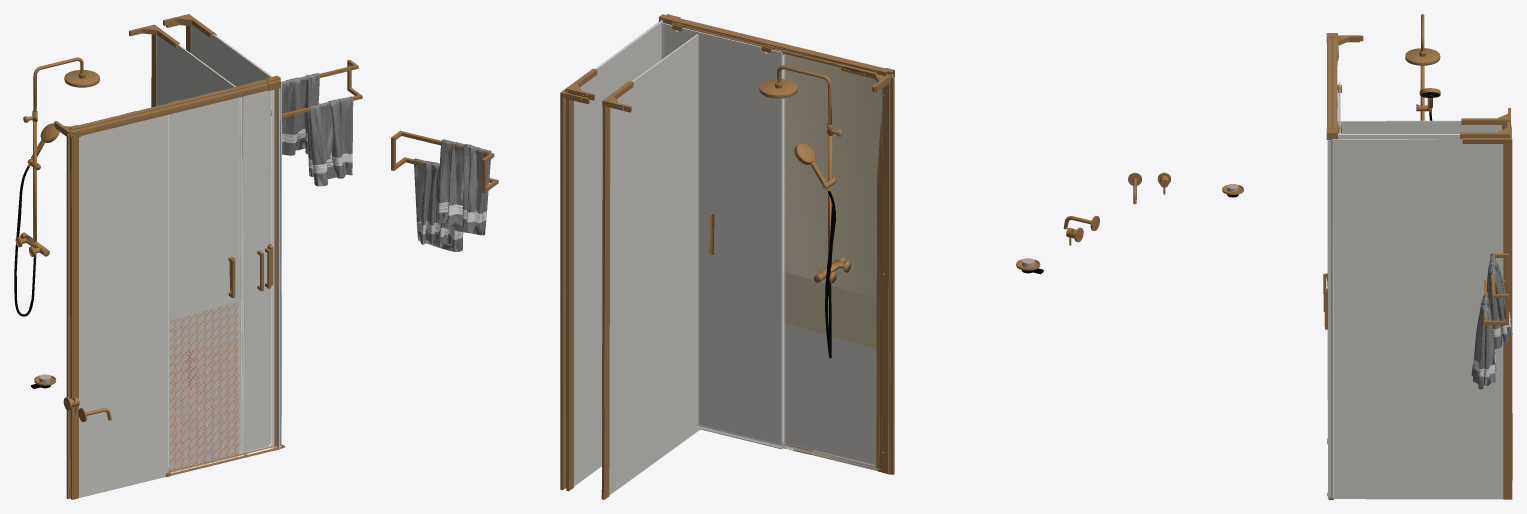
The model's file is PAROIS_compressed.glb.
3 views of the same model, side by side, from view 1: azimuth 30°, elevation 25°; view 2: azimuth 150°, elevation 25°; view 3: azimuth 270°, elevation 25° (orthographic). The views are drawn at different scales.
Visible parts, largest first — view 1: PLCLS 1200x2000 + PLTWU 900x2000, PLPIV 1000x2000 + PLTWU 900x2000.001, Moving door, PLWRU 1000X2000, PLPIV 1000x2000 + PLTWU 900x2000.002, Serigraphie Geometrie arondie, PLPIF 1200X2000, towel.002, Serigraphie Chevrons arondie, Shower system, towel.001, Door.002 (+5 smaller); view 2: PLPIV 1000x2000 + PLTWU 900x2000.002, MovingDoor, PLTWU 1000x2000, PLCLS 1200x2000 + PLTWU 900x2000, Moving door.001, Serigraphie Chevrons carrée, towel.001, Shower system, PLPIF 1200X2000 + PLTWU 900x2000, PLPIV 1000x2000.001, PLCLS 1200x2000, towel.002 (+2 smaller); view 3: PLPIF 1200X2000 + PLTWU 900x2000, PLCLS 1200x2000 + PLTWU 900x2000, PLPIV 1000x2000 + PLTWU 900x2000.002, towel.002, towel.001, Shower system, PLPIF 1200X2000, PLCLS 1200x2000, Towel rack.
Part boxes in pixels (x1=…): PLCLS 1200x2000 + PLTWU 900x2000: x1=69, y1=14, x2=280, y2=499; PLPIV 1000x2000 + PLTWU 900x2000.001: x1=168, y1=97, x2=242, y2=453; Moving door: x1=172, y1=90, x2=271, y2=470; PLWRU 1000X2000: x1=55, y1=122, x2=238, y2=471; PLPIV 1000x2000 + PLTWU 900x2000.002: x1=69, y1=24, x2=246, y2=498; Serigraphie Geometrie arondie: x1=168, y1=302, x2=239, y2=472; PLPIF 1200X2000: x1=55, y1=89, x2=276, y2=498; towel.002: x1=307, y1=96, x2=353, y2=186; Serigraphie Chevrons arondie: x1=169, y1=303, x2=238, y2=470; Shower system: x1=14, y1=57, x2=99, y2=316; towel.001: x1=281, y1=73, x2=319, y2=155; Door.002: x1=265, y1=90, x2=274, y2=445; PLPIV 1000x2000 + PLTWU 900x2000.002: x1=601, y1=34, x2=893, y2=499; MovingDoor: x1=661, y1=22, x2=782, y2=449; PLTWU 1000x2000: x1=713, y1=34, x2=890, y2=473; PLCLS 1200x2000 + PLTWU 900x2000: x1=565, y1=14, x2=894, y2=491; Moving door.001: x1=709, y1=123, x2=880, y2=471; Serigraphie Chevrons carrée: x1=766, y1=52, x2=881, y2=470; towel.001: x1=438, y1=139, x2=491, y2=235; Shower system: x1=759, y1=65, x2=850, y2=358; PLPIF 1200X2000 + PLTWU 900x2000: x1=560, y1=22, x2=890, y2=489; PLPIV 1000x2000.001: x1=787, y1=94, x2=889, y2=473; PLCLS 1200x2000: x1=659, y1=14, x2=889, y2=447; towel.002: x1=413, y1=158, x2=463, y2=251; PLPIF 1200X2000 + PLTWU 900x2000: x1=1328, y1=41, x2=1512, y2=499; PLCLS 1200x2000 + PLTWU 900x2000: x1=1326, y1=33, x2=1510, y2=497; PLPIV 1000x2000 + PLTWU 900x2000.002: x1=1337, y1=108, x2=1512, y2=480; towel.002: x1=1471, y1=295, x2=1496, y2=389; towel.001: x1=1487, y1=253, x2=1512, y2=348; Shower system: x1=1405, y1=14, x2=1440, y2=120; PLPIF 1200X2000: x1=1331, y1=138, x2=1332, y2=497; PLCLS 1200x2000: x1=1331, y1=33, x2=1338, y2=139; Towel rack: x1=1484, y1=253, x2=1508, y2=324.
Bounding box in the file's own units: 2.63 × 2.18 × 1.94.
Materials: 13 (5 with a texture image).
